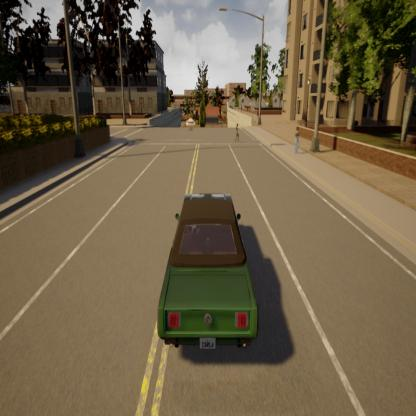Cars: (155, 167, 263, 384)
Pedestrian: (292, 119, 303, 161), (232, 114, 244, 150)
